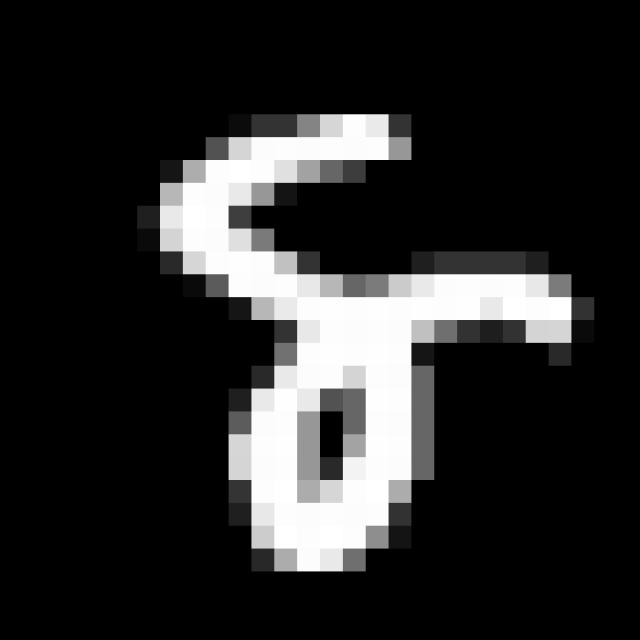eight -8-: (146, 110, 583, 577)
